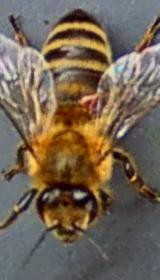varroa_mite: (61, 82, 111, 120)
